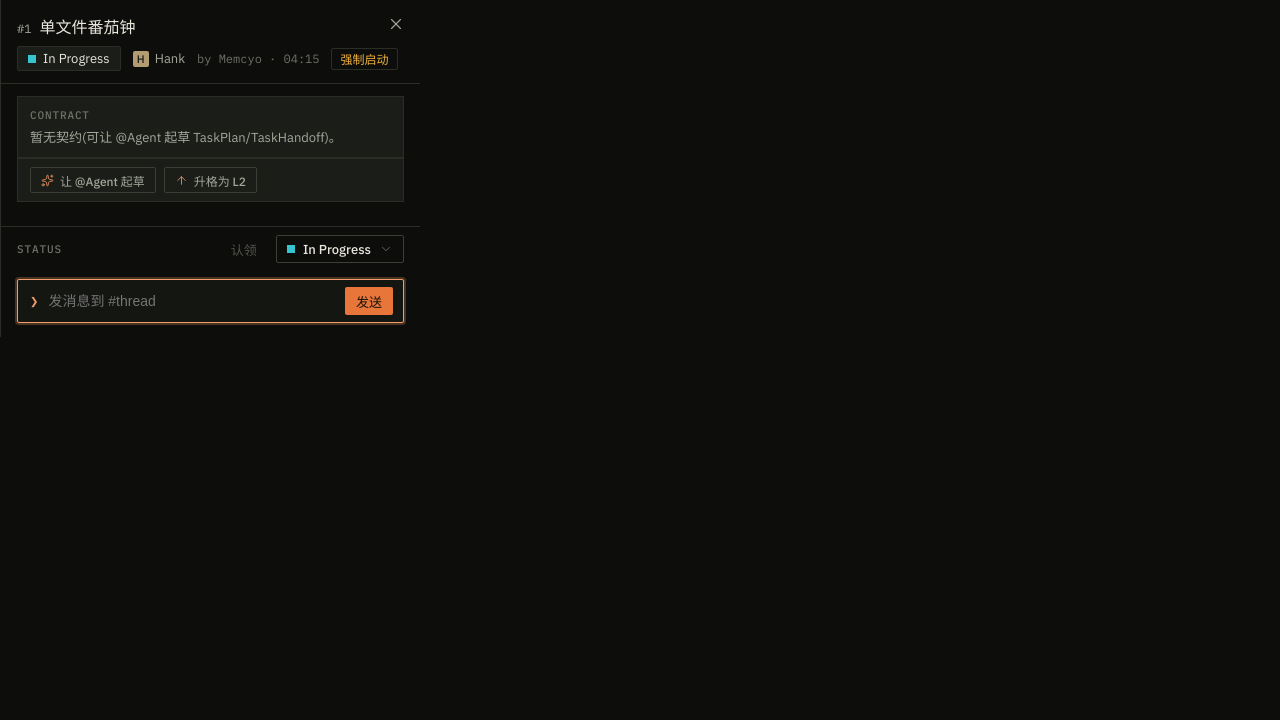
Test: ThreadPanel T7 拒绝就地提示(HANDOFF_INCOMPLETE) › DAEMON_OFFLINE 与 HANDOFF_INCOMPLETE 互不影响:非 HANDOFF_INCOMPLETE 错误不点亮就地提示
What coordinates should you click on to do the following:
click the button "In Progress"
I would click on:
 (340, 249)
Its box is [276,235,404,263].
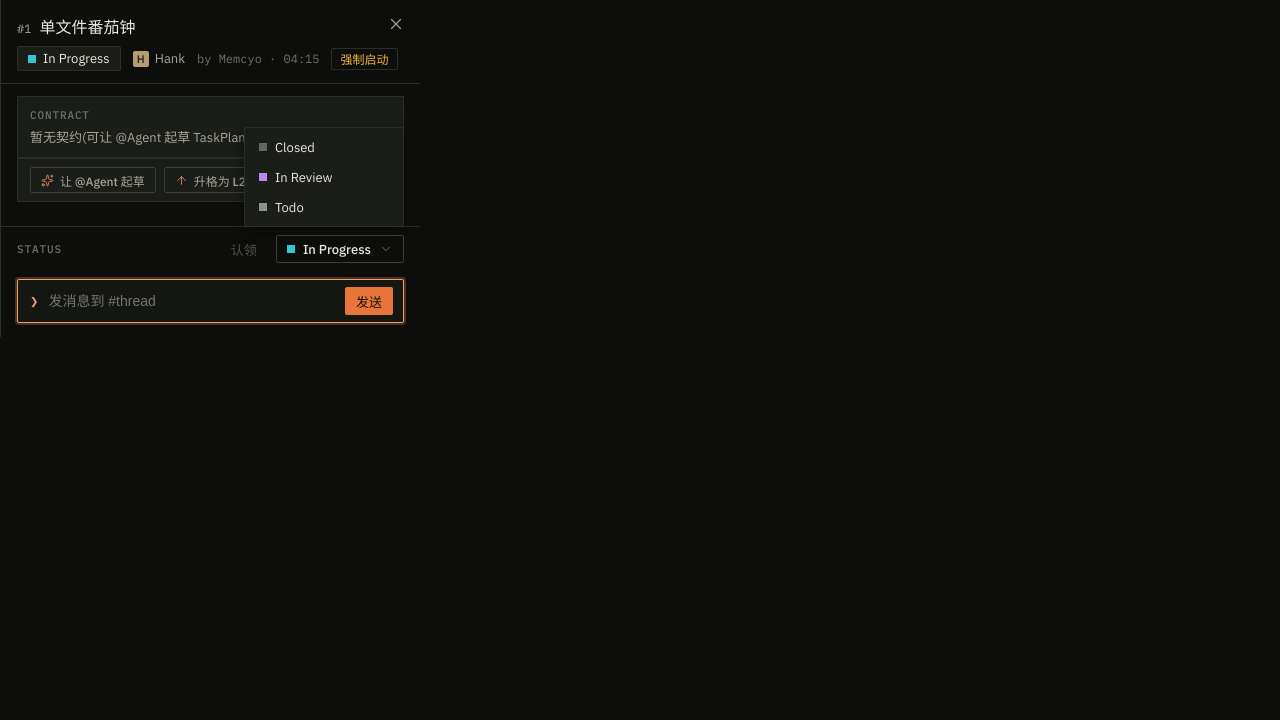
What coordinates should you click on to do the following:
click the text "In Review"
I would click on:
 (296, 177)
Its box is [259,168,332,186].
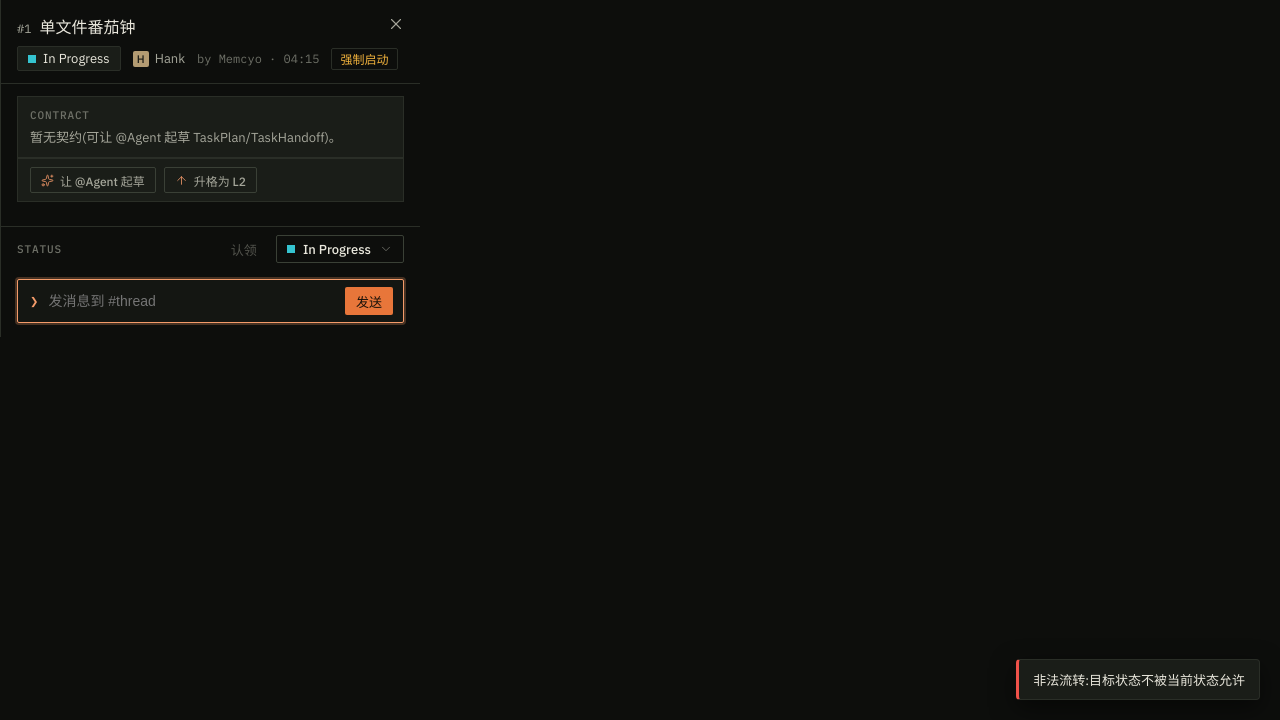
Expected: the text "非法流转:目标状态不被当前状态允许" is shown, [1016,659,1260,700]
